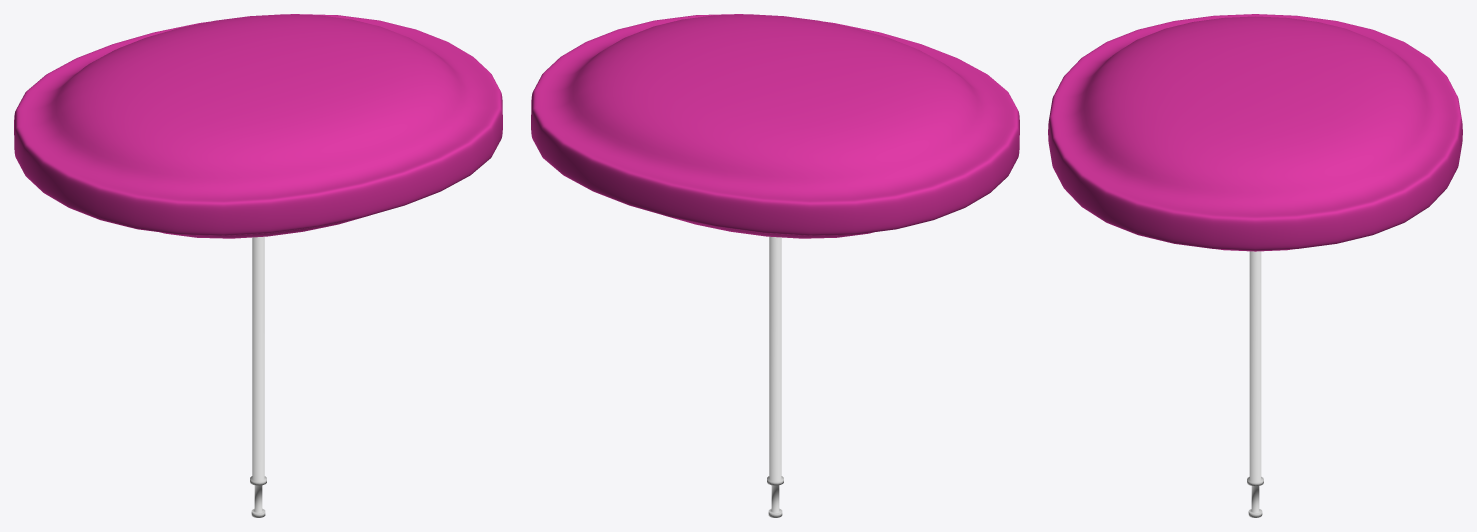
File: parapluie.fbx
3 views of the same model, side by side, from view 1: azimuth 30°, elevation 25°; view 2: azimuth 150°, elevation 25°; view 3: azimuth 270°, elevation 25° (orthographic).
Parts seen in each view (by area): view 1: parapluie; view 2: parapluie; view 3: parapluie.
Boxes of the visible parts, left/top/right/bottom form: parapluie: left=14, top=14, right=502, bottom=517; parapluie: left=531, top=14, right=1019, bottom=517; parapluie: left=1048, top=14, right=1462, bottom=517.
Bounding box in the file's own units: 1045 × 1031 × 882.
